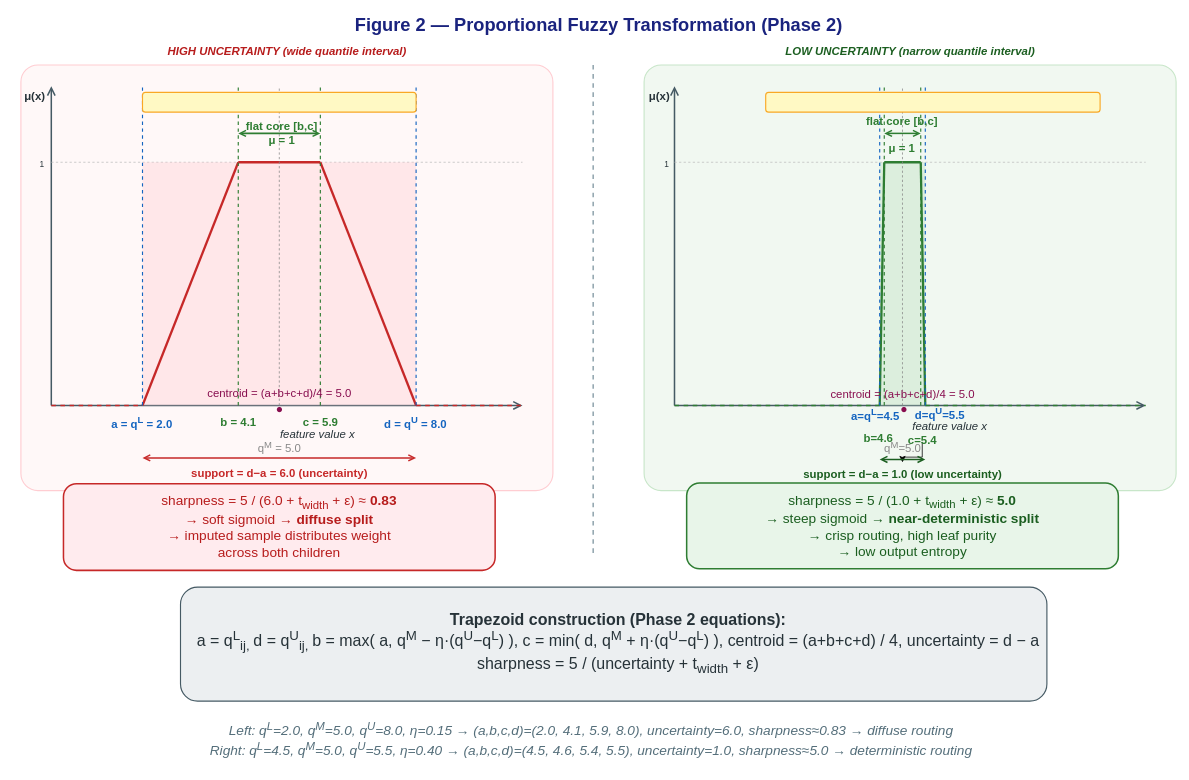
This 1189x780 diagram has some shape labels left out. Each missing label, with the box of its shape:
η = 0.15 (small → wide flat core): (142, 91, 416, 112)
η = 0.40 (large → narrow core, near-point imputation): (765, 91, 1100, 112)
